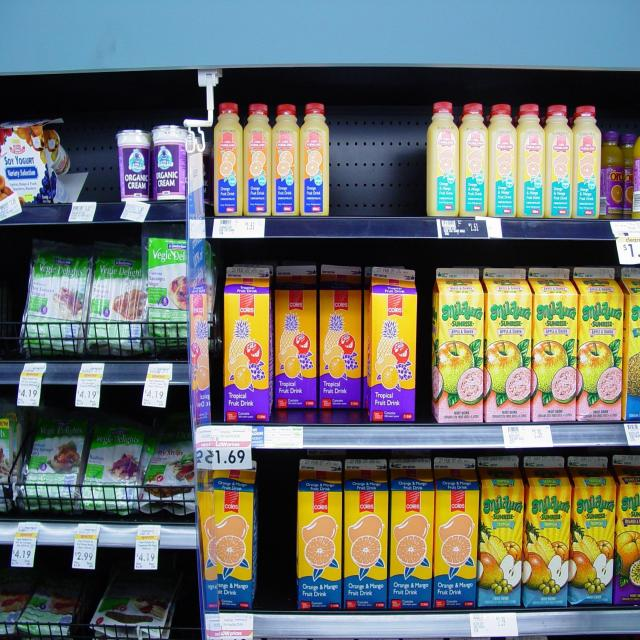void: (332, 111, 426, 225), (254, 476, 298, 614), (168, 562, 201, 634), (86, 139, 118, 201), (0, 260, 21, 352)
